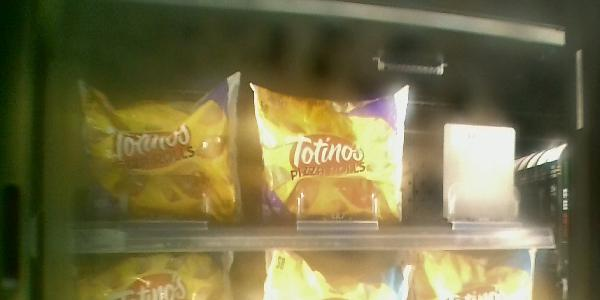icecream: (53, 68, 252, 236), (250, 74, 409, 235)
